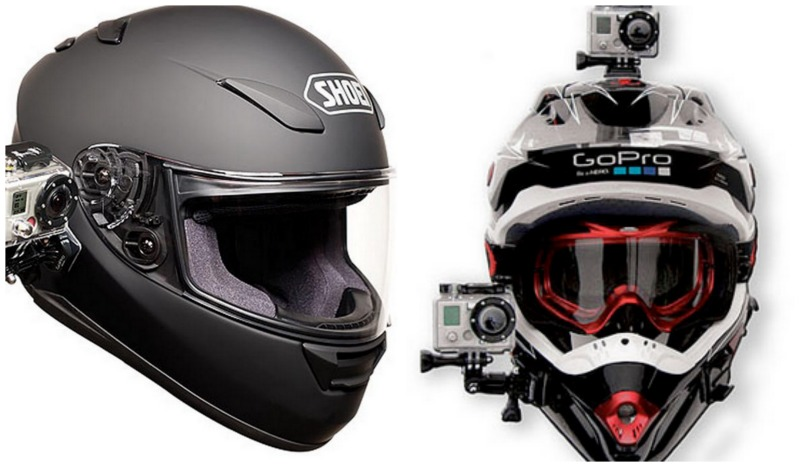with_helmet: (3, 1, 403, 456), (415, 2, 781, 467)
